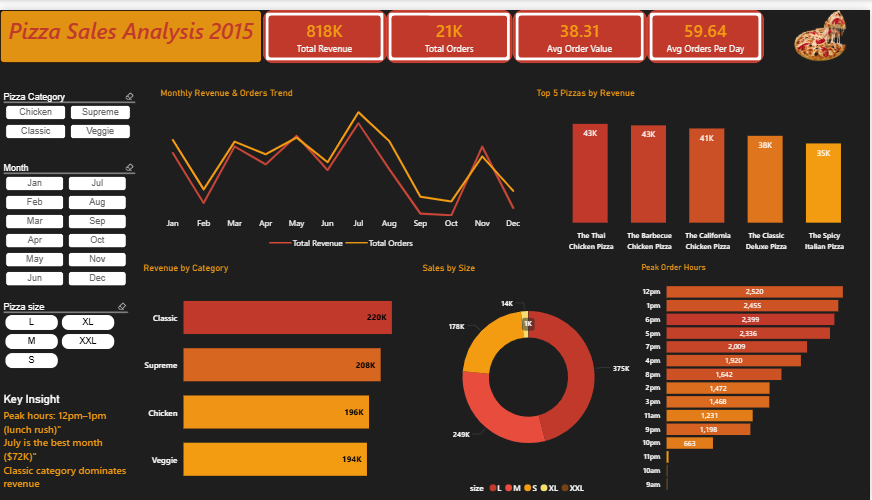

This screenshot's page, from the dashboard's own definition file:
{"tool":"powerbi","page":{"name":" Overview ","canvas":[1280,720],"ordinal":0},"visuals":[{"type":"image","box":[1132.3,0,147.7,78.5],"z":0},{"type":"textbox","box":[0,0,384.6,78.5],"z":1000},{"type":"cardVisual","fields":{"Data":["public pizzas.Total Reavenue"]},"box":[386.2,0,181.5,78.5],"z":2000},{"type":"cardVisual","fields":{"Data":["public order_details.Avg Orders Per Day"]},"box":[951.3,0,172.3,78.5],"z":3000},{"type":"cardVisual","fields":{"Data":["public order_details.Total Orders"]},"box":[568.2,0,186.2,78.5],"z":4000},{"type":"cardVisual","fields":{"Data":["public order_details.Avg Order Value"]},"box":[754.4,0,196.9,78.5],"z":5000},{"type":"lineChart","title":"Monthly Revenue & Orders Trend","fields":{"Y":["public pizzas.Total Revenue"],"Y2":["public order_details.Total Orders"],"Category":["public orders.Month Short"]},"box":[230.9,114.7,547.1,245.6],"z":6000},{"type":"clusteredColumnChart","title":"Top 5 Pizzas by Revenue","fields":{"Category":["public pizza_types.name"],"Y":["public pizzas.Total Revenue"]},"box":[783.8,114.7,495.6,247.1],"z":7000},{"type":"clusteredBarChart","title":"Revenue by Category","fields":{"Y":["public pizzas.Total Revenue"],"Category":["public pizza_types.category"]},"box":[205.9,372.1,402.9,348.5],"z":8000},{"type":"donutChart","title":"Sales by Size","fields":{"Category":["public pizzas.size"],"Y":["public pizzas.Total Revenue"]},"box":[616.2,372.1,322.1,348.5],"z":9000},{"type":"barChart","title":"Peak Order Hours","fields":{"Category":["public orders.Hour Label"],"Y":["public order_details.Total Orders"]},"box":[938.2,372.1,341.2,347.1],"z":10000},{"type":"ChicletSlicer1448559807354","fields":{"Category":["public pizza_types.category"]},"box":[0,114.7,204.4,104.4],"z":10001},{"type":"ChicletSlicer1448559807354","fields":{"Category":["public orders.Month Short"]},"box":[0,219.1,204.4,204.4],"z":10002},{"type":"ChicletSlicer1448559807354","fields":{"Category":["public pizzas.size"]},"box":[0,423.5,192.6,114.7],"z":10003},{"type":"textbox","title":"Key Insight","box":[0,561.8,205.9,158.8],"z":10004}]}

Visuals, with their boxes in screenshot pixels (x1, y1, x2, y2), scaled from the page's 1280x720 canvas onto the 872x500 screenshot:
image: select_region(771, 0, 871, 55)
textbox: select_region(0, 0, 262, 55)
cardVisual - public pizzas.Total Reavenue: select_region(263, 0, 387, 55)
cardVisual - public order_details.Avg Orders Per Day: select_region(648, 0, 765, 55)
cardVisual - public order_details.Total Orders: select_region(387, 0, 514, 55)
cardVisual - public order_details.Avg Order Value: select_region(514, 0, 648, 55)
"Monthly Revenue & Orders Trend" lineChart: select_region(157, 80, 530, 250)
"Top 5 Pizzas by Revenue" clusteredColumnChart: select_region(534, 80, 871, 251)
"Revenue by Category" clusteredBarChart: select_region(140, 258, 415, 499)
"Sales by Size" donutChart: select_region(420, 258, 639, 499)
"Peak Order Hours" barChart: select_region(639, 258, 871, 499)
ChicletSlicer1448559807354 - public pizza_types.category: select_region(0, 80, 139, 152)
ChicletSlicer1448559807354 - public orders.Month Short: select_region(0, 152, 139, 294)
ChicletSlicer1448559807354 - public pizzas.size: select_region(0, 294, 131, 374)
"Key Insight" textbox: select_region(0, 390, 140, 499)
